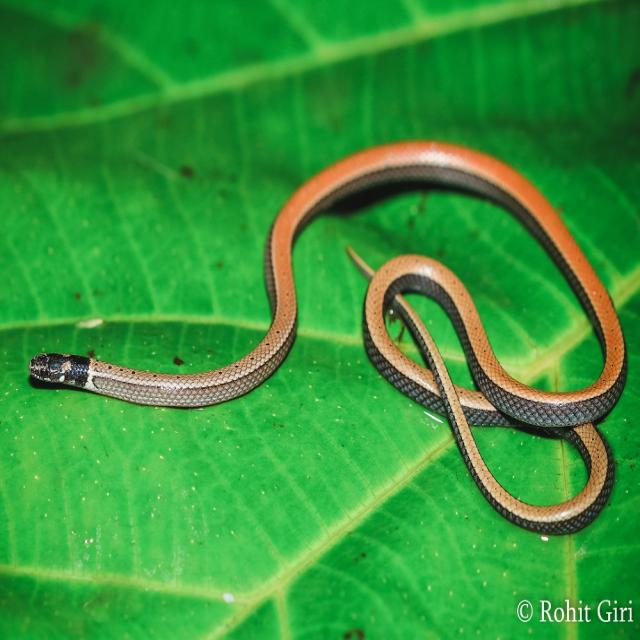Snake: (32, 133, 620, 553)
